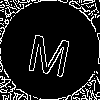M: (25, 25, 75, 78)
